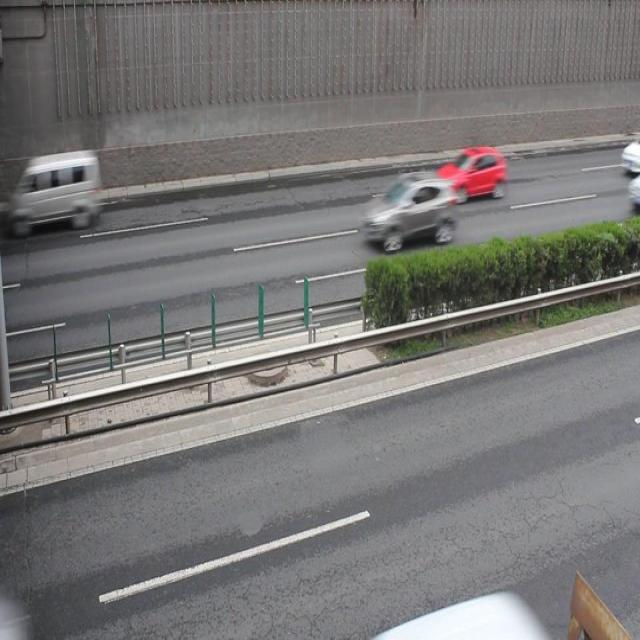car: (364, 173, 455, 249), (437, 148, 504, 202)
truck: (382, 591, 540, 640), (10, 148, 100, 230)
